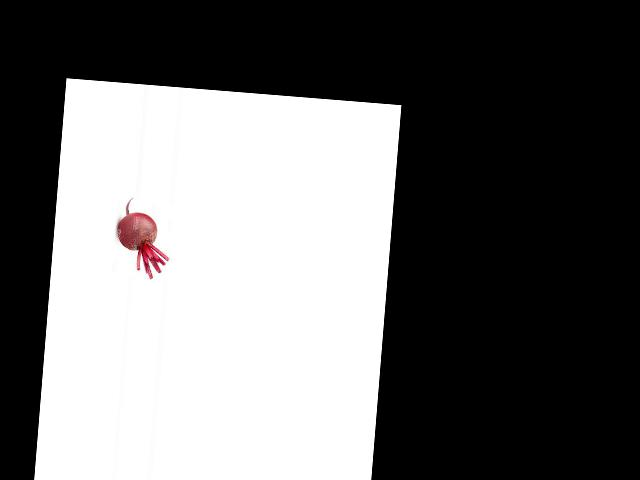beet: (114, 197, 173, 280)
